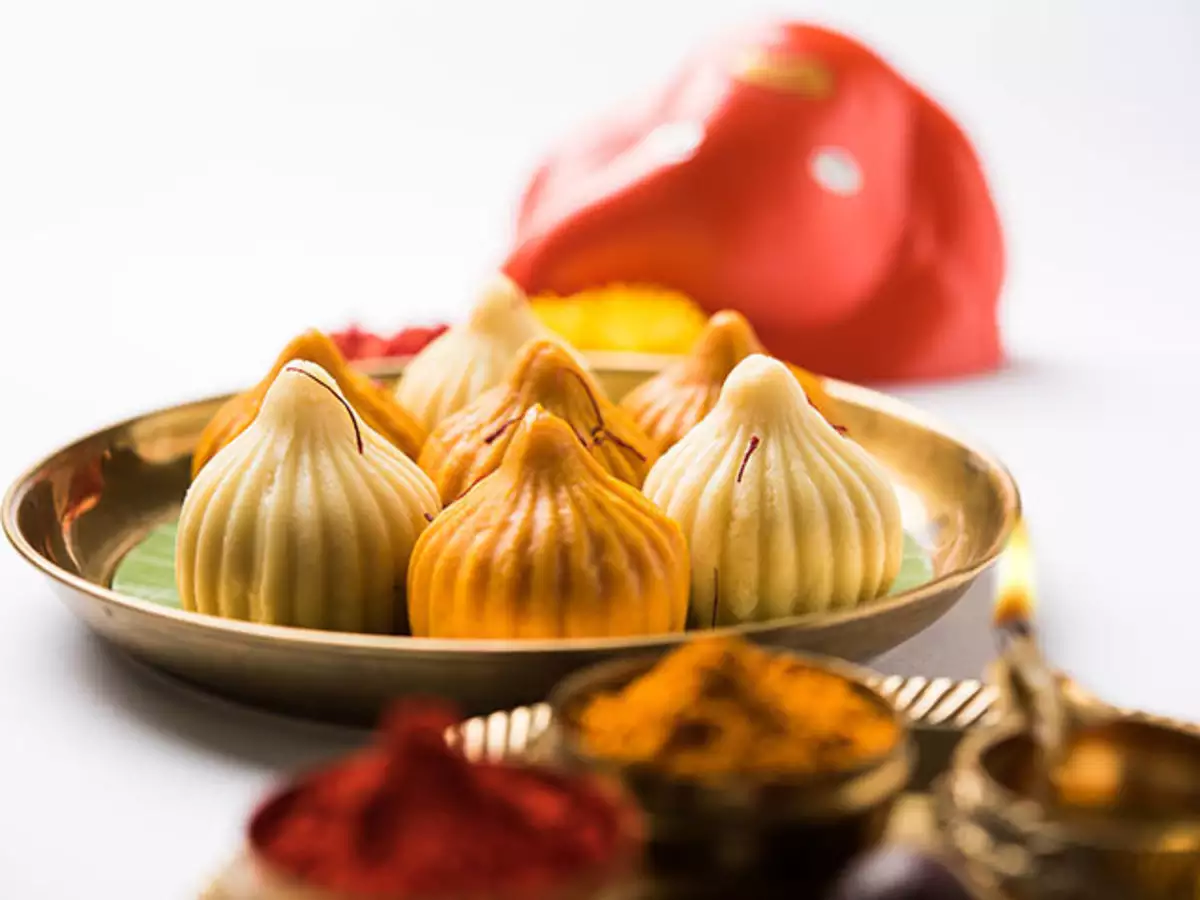modak: (403, 389, 712, 688), (228, 360, 486, 637), (666, 375, 910, 626)
